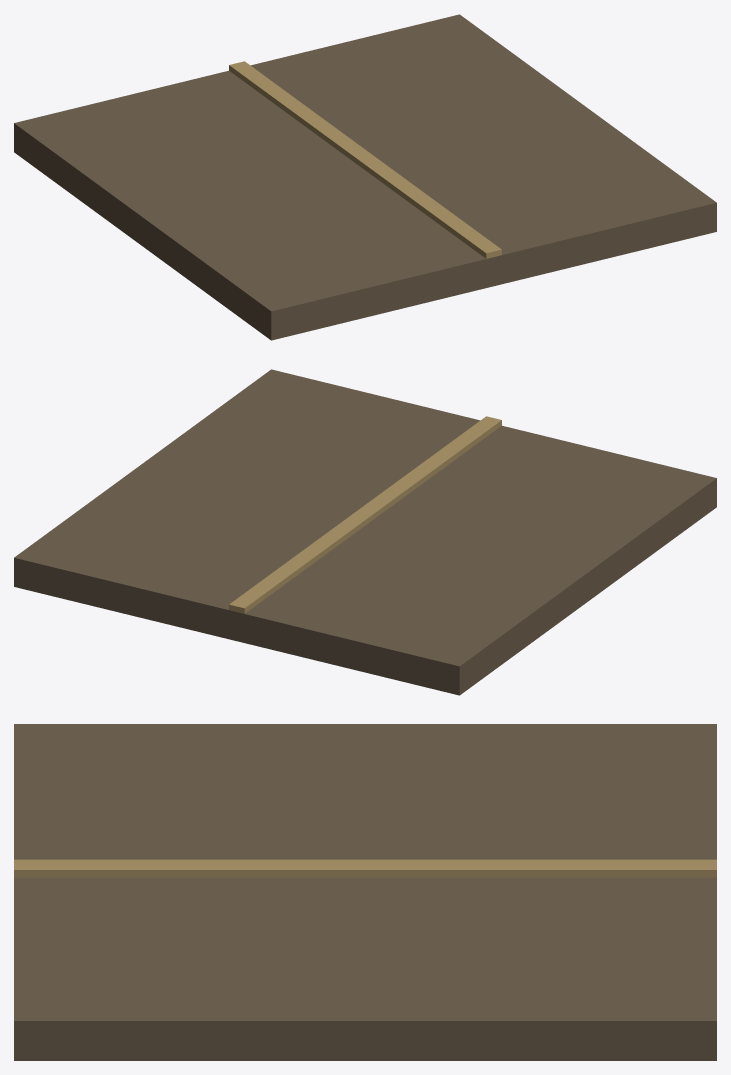
The model's file is terrain-path-straight.lod0.glb.
3 renders of one model, top to bottom at view 1: azimuth 30°, elevation 25°; view 2: azimuth 150°, elevation 25°; view 3: azimuth 270°, elevation 25°, orthographic. The views are drawn at different scales.
Parts seen in each view (by area): view 1: terrain-path-straight__body; view 2: terrain-path-straight__body; view 3: terrain-path-straight__body.
Part boxes in pixels (x1,y1,x2,y2): terrain-path-straight__body: [14, 14, 716, 340]; terrain-path-straight__body: [14, 369, 716, 695]; terrain-path-straight__body: [14, 724, 716, 1060].
Size of the model in its own units: 2 by 0.149 by 2.
